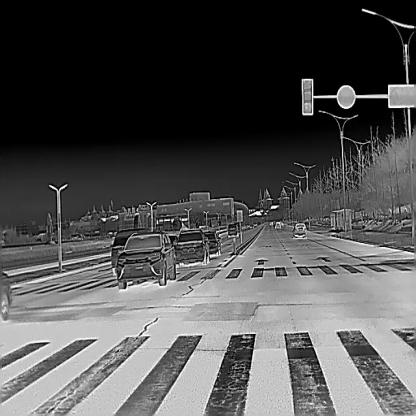car: (116, 231, 176, 288), (108, 226, 152, 274), (174, 228, 207, 266), (0, 270, 12, 321), (198, 231, 221, 256), (292, 222, 306, 237), (226, 222, 236, 236), (274, 220, 280, 228)
